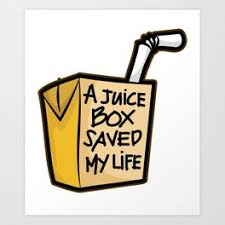Juice_Box: (40, 62, 153, 185)
